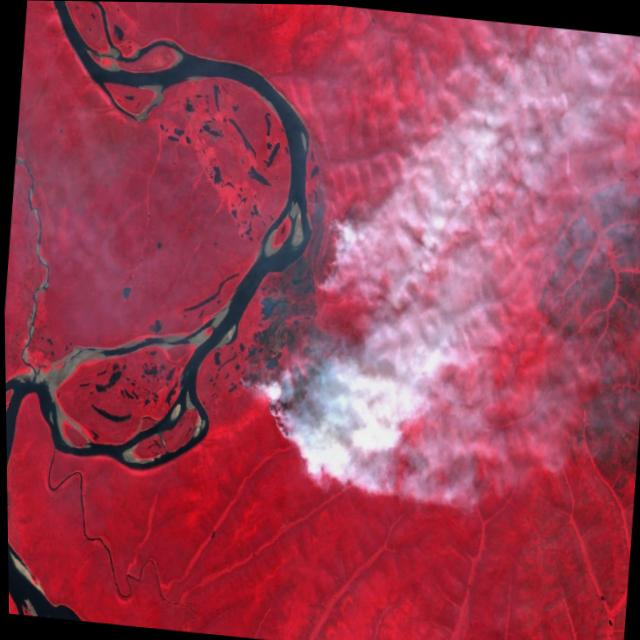fire: (261, 341, 375, 474), (298, 207, 349, 300)
